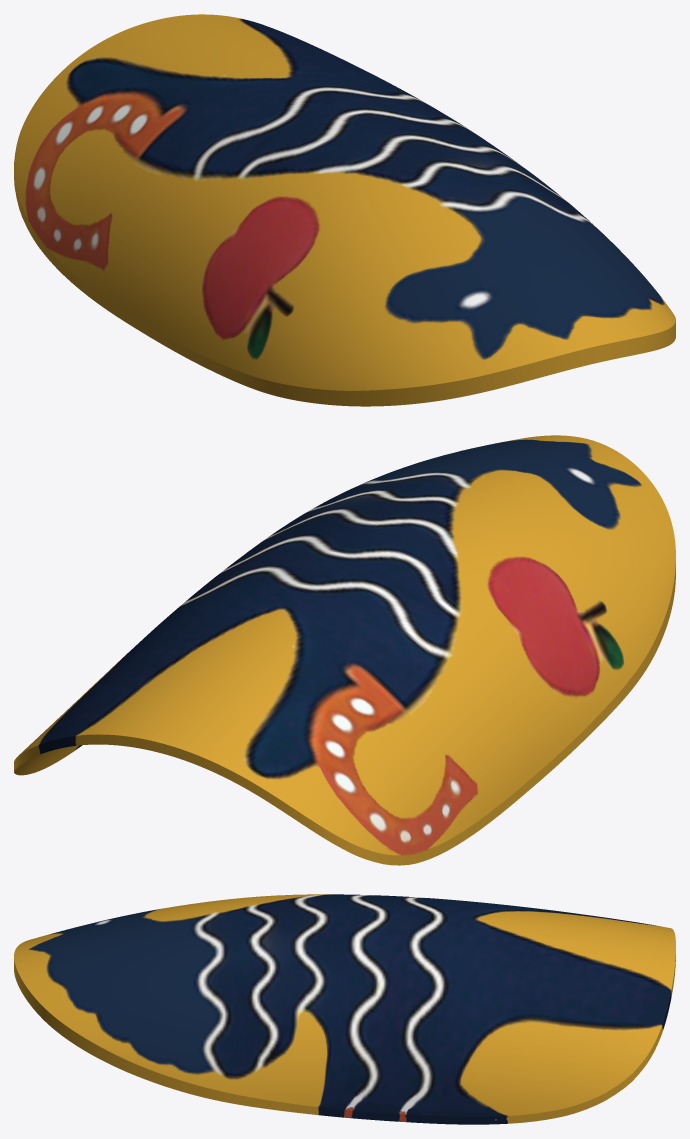
File: MF_Xiao_ma_Damuzhi_ty02.obj
The picture shows the model from 3 angles, top to bottom: view 1: azimuth 30°, elevation 25°; view 2: azimuth 150°, elevation 25°; view 3: azimuth 270°, elevation 25°; orthographic projection. The views are drawn at different scales.
Parts seen in each view (by area): view 1: MF_Xiao_ma_Damuzhi_ty02 MF_Xiao_ma_Damuzhi_ty02; view 2: MF_Xiao_ma_Damuzhi_ty02 MF_Xiao_ma_Damuzhi_ty02; view 3: MF_Xiao_ma_Damuzhi_ty02 MF_Xiao_ma_Damuzhi_ty02.
Boxes of the visible parts, bbox=[...] form: MF_Xiao_ma_Damuzhi_ty02 MF_Xiao_ma_Damuzhi_ty02: bbox=[14, 14, 675, 406]; MF_Xiao_ma_Damuzhi_ty02 MF_Xiao_ma_Damuzhi_ty02: bbox=[14, 435, 675, 865]; MF_Xiao_ma_Damuzhi_ty02 MF_Xiao_ma_Damuzhi_ty02: bbox=[14, 894, 675, 1124].
Bounding box in the file's own units: 12 × 5.5 × 23.24.
Materials: 1 (1 with a texture image).
